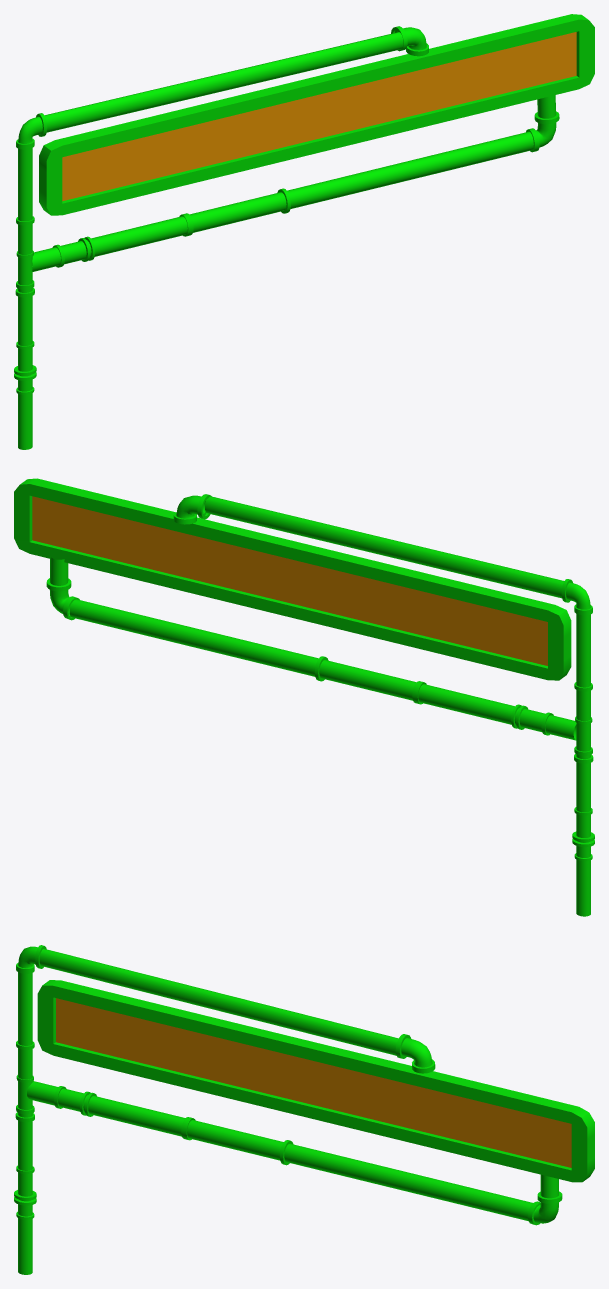
The model's file is ABillboard.fbx.
3 renders of one model, top to bottom at view 1: azimuth 30°, elevation 25°; view 2: azimuth 150°, elevation 25°; view 3: azimuth 330°, elevation 25°, orthographic.
Parts seen in each view (by area): view 1: Sign1, BillBoard6, BillBoard7, BillBoardConnector6, BillBoardConnector7; view 2: Sign1, BillBoard6, BillBoard7, BillBoardConnector6, BillBoardConnector7; view 3: Sign1, BillBoard6, BillBoard7, BillBoardConnector6, BillBoardConnector7.
Part boxes in pixels (<box>): Sign1: <box>39,14,594,215</box>; BillBoard6: <box>14,32,403,449</box>; BillBoard7: <box>32,131,533,271</box>; BillBoardConnector6: <box>526,95,559,152</box>; BillBoardConnector7: <box>391,26,428,56</box>; Sign1: <box>14,478,571,680</box>; BillBoard6: <box>205,496,594,916</box>; BillBoard7: <box>69,599,576,740</box>; BillBoardConnector6: <box>46,556,79,620</box>; BillBoardConnector7: <box>173,494,211,524</box>; Sign1: <box>37,980,594,1182</box>; BillBoard6: <box>14,945,398,1274</box>; BillBoard7: <box>27,1081,532,1221</box>; BillBoardConnector6: <box>527,1174,562,1225</box>; BillBoardConnector7: <box>395,1034,435,1073</box>.
Bounding box in the file's own units: 23.34 × 12.76 × 0.9757.
